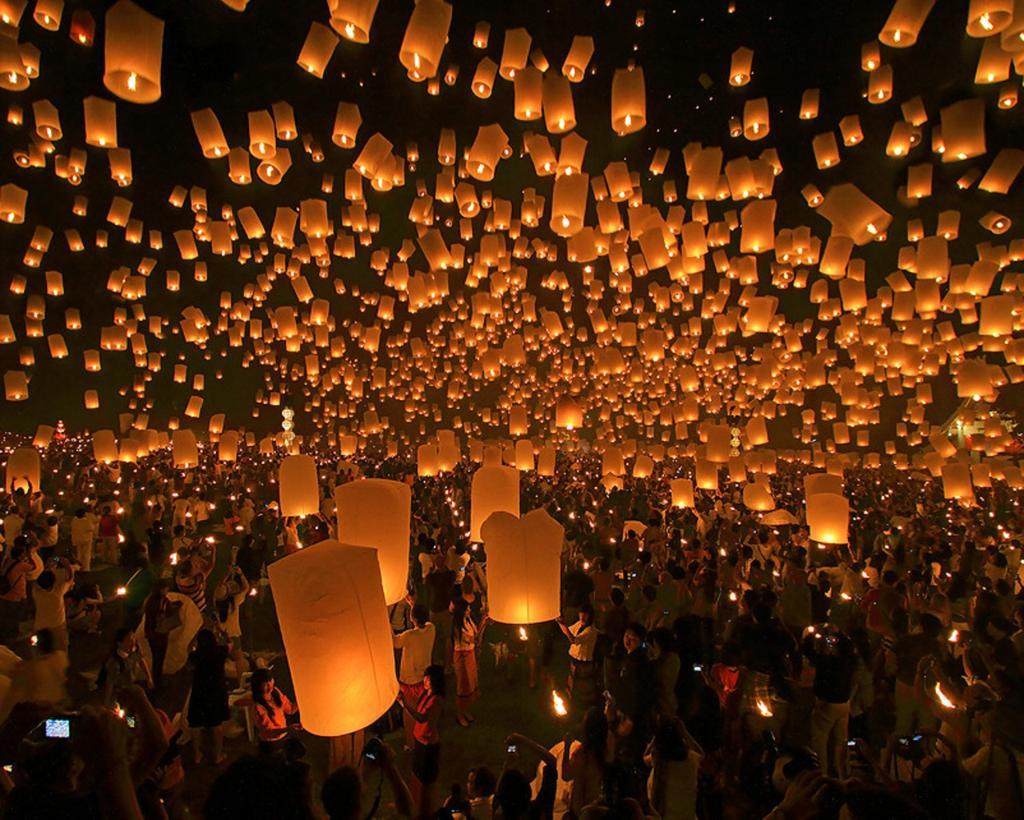face: (624, 632, 640, 650), (124, 634, 136, 652), (262, 680, 274, 694), (468, 775, 475, 795), (654, 639, 660, 656), (988, 623, 995, 637), (424, 677, 431, 689), (740, 594, 746, 608), (579, 612, 587, 621), (22, 551, 28, 561), (466, 606, 471, 617), (706, 551, 712, 560), (410, 609, 414, 622)
